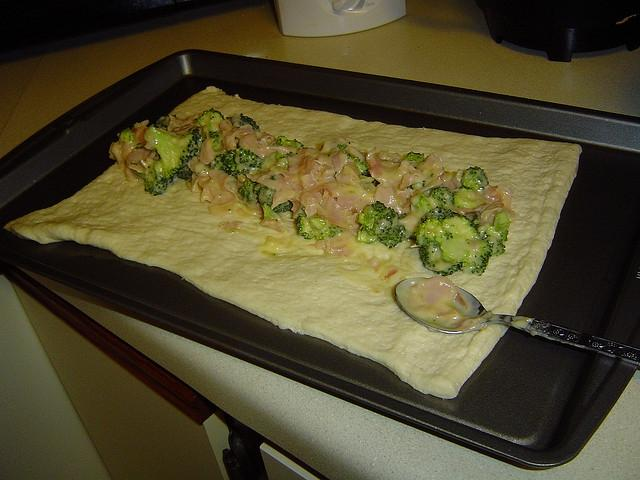broccoli: (415, 206, 492, 276), (144, 126, 202, 196), (354, 200, 406, 250), (208, 148, 264, 180), (296, 207, 342, 240), (477, 212, 510, 256), (411, 187, 454, 214), (192, 108, 225, 132), (453, 185, 485, 208), (461, 166, 489, 191), (238, 179, 260, 203), (347, 154, 369, 176), (260, 202, 284, 222), (256, 186, 276, 206), (272, 136, 304, 148), (118, 128, 136, 142), (274, 200, 293, 213), (402, 151, 424, 162)
